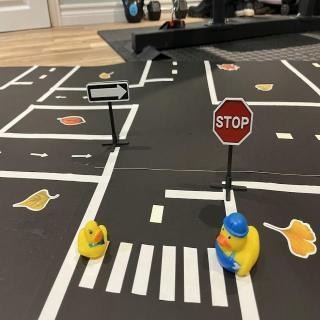duck_regular: (78, 222, 110, 262)
duck_specialty: (216, 211, 262, 279)
road_crosswalk: (72, 239, 234, 311)
road_oneway: (69, 151, 95, 163), (27, 150, 55, 160), (81, 94, 91, 104), (55, 93, 67, 100)
sign_oneway_right: (86, 82, 131, 105)
sign_stop: (214, 99, 255, 149)
